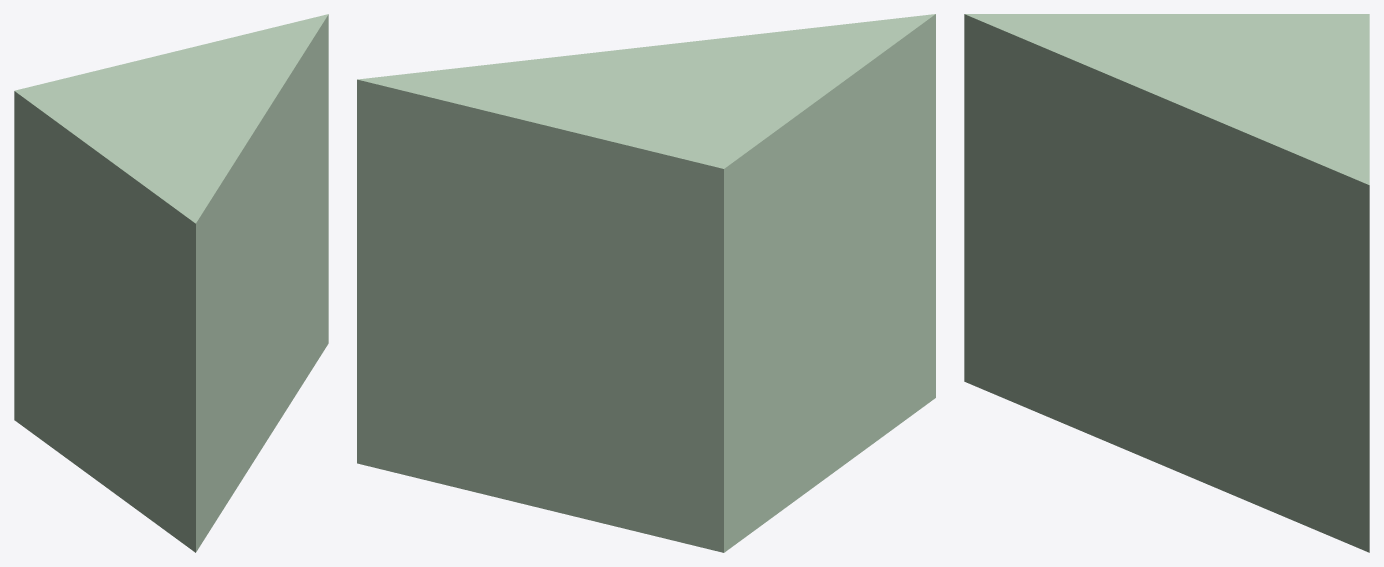
The model's file is Climb_VerticalSlope.glb.
3 renders of one model, left to right at view 1: azimuth 30°, elevation 25°; view 2: azimuth 150°, elevation 25°; view 3: azimuth 270°, elevation 25°, orthographic. The views are drawn at different scales.
Visible parts, largest first — view 1: Climb_VerticalSlope_body; view 2: Climb_VerticalSlope_body; view 3: Climb_VerticalSlope_body.
Part boxes in pixels (<box>): Climb_VerticalSlope_body: <box>14,14,328,552</box>; Climb_VerticalSlope_body: <box>357,14,935,552</box>; Climb_VerticalSlope_body: <box>964,14,1369,552</box>.
Bounding box in the file's own units: 1 × 1 × 1.
